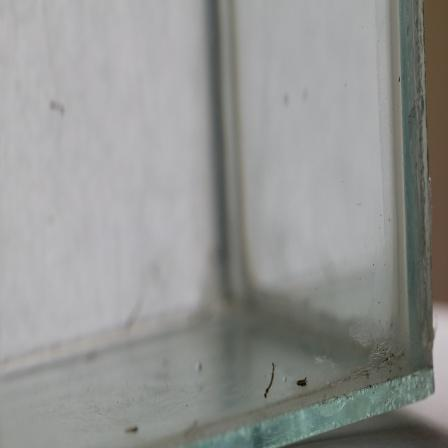Jentik-Nyamuk: (262, 360, 278, 400), (293, 376, 311, 390)
